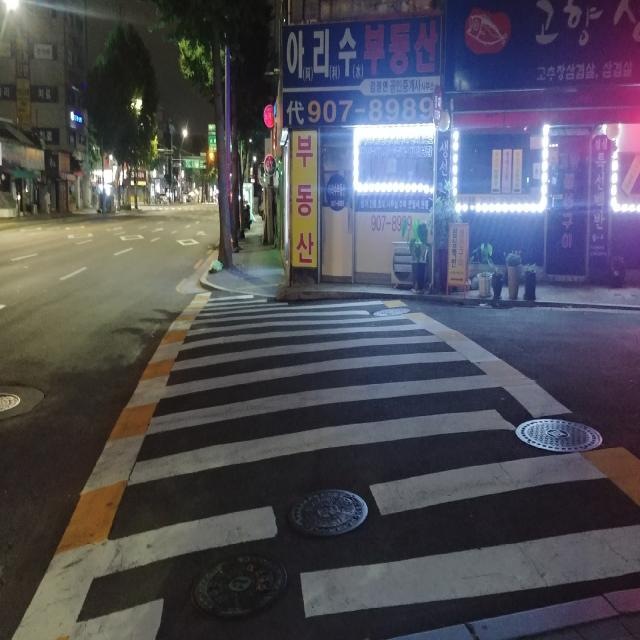횡단보도: (76, 294, 640, 640)
